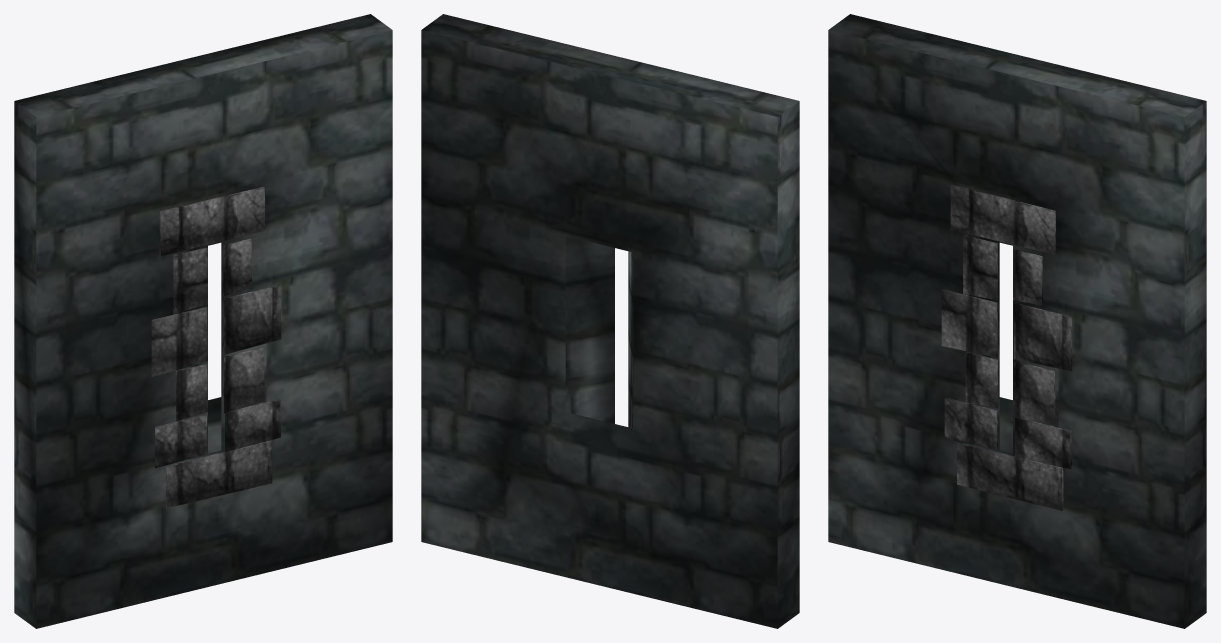
The model's file is dark stone arrowslit.glb.
The picture shows the model from 3 angles, left to right: view 1: azimuth 30°, elevation 25°; view 2: azimuth 150°, elevation 25°; view 3: azimuth 330°, elevation 25°; orthographic projection.
Visible parts, largest first — view 1: Circular Doorway.001; view 2: Circular Doorway.001; view 3: Circular Doorway.001.
Boxes of the visible parts, x1,y1,x2,y2 form: Circular Doorway.001: [14, 14, 392, 628]; Circular Doorway.001: [421, 14, 799, 628]; Circular Doorway.001: [828, 14, 1206, 628].
Size of the model in its own units: 2 by 2.74 by 0.225.
2 materials, 2 textured.
